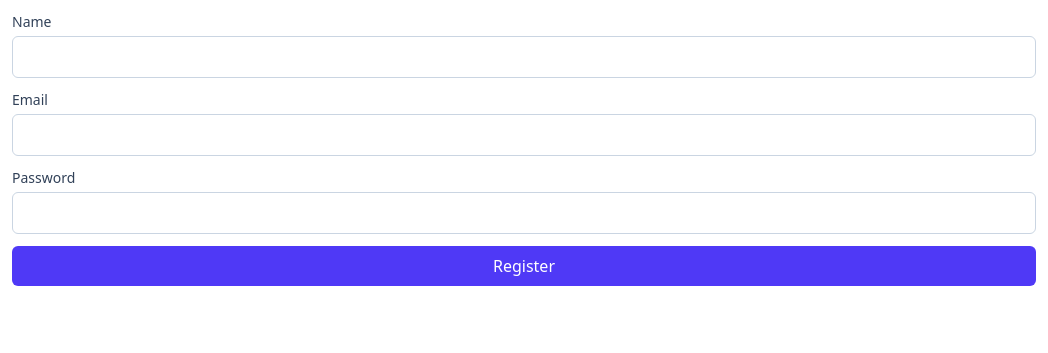
Test: RegisterForm › shows an error message on failure
This screenshot has width=1048, height=353.
Type "Ana Silva" into the field labelled "Name".
click(524, 57); type("Ana Silva")  # box [12,36,1036,78]
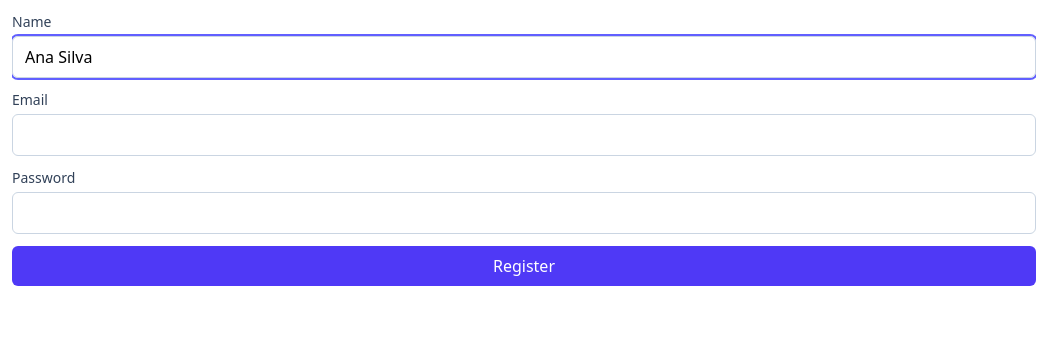
Type "ana@example.com" into the field labelled "Email".
click(524, 135); type("ana@example.com")  # box [12,114,1036,156]
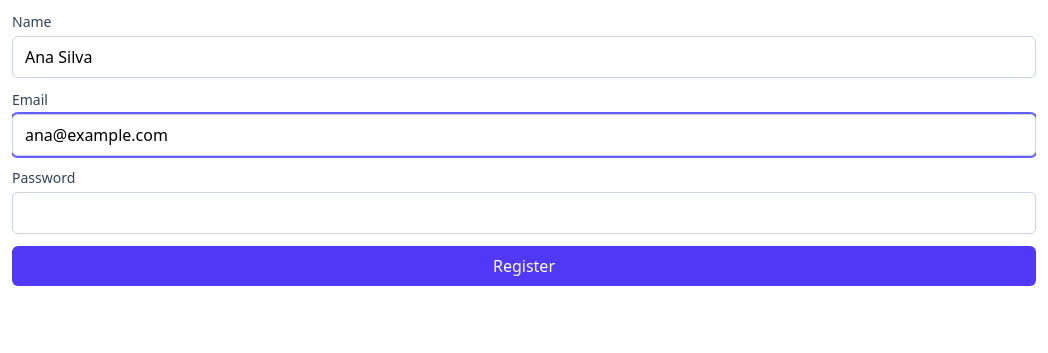
Type "secret123" into the password field labelled "Password".
click(524, 213); type("secret123")  # box [12,192,1036,234]
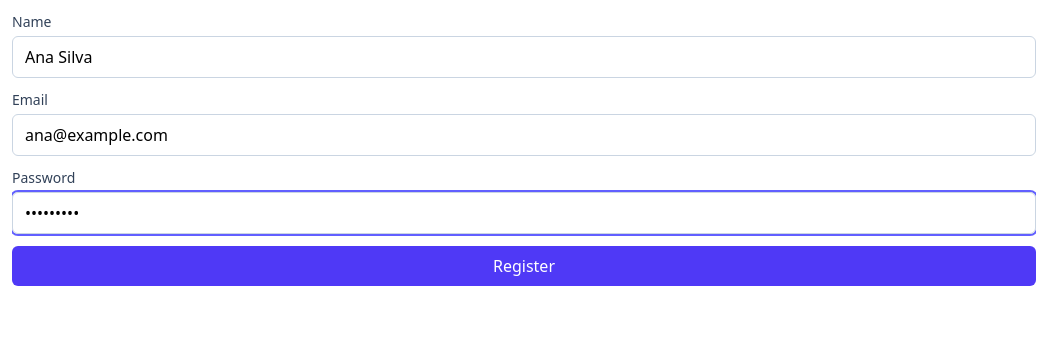
Click the button "Register".
click(524, 266)  # box [12,246,1036,286]
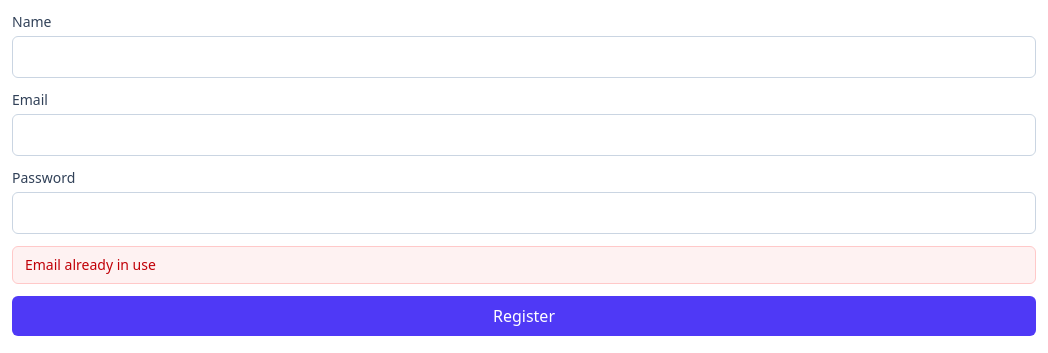
Expected: the text "Email already in use" is shown, [12,246,1036,284]
